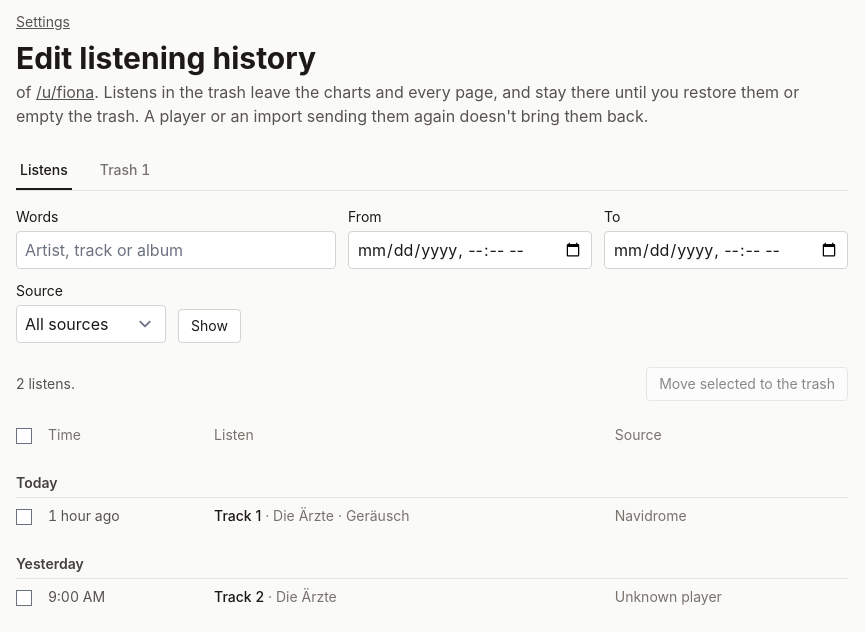
Test: listening history › selects all shown and back
The width and height of the screenshot is (865, 632).
Click the checkbox named "Select all shown" at coordinates (24, 436), box left=16, top=428, right=32, bottom=444
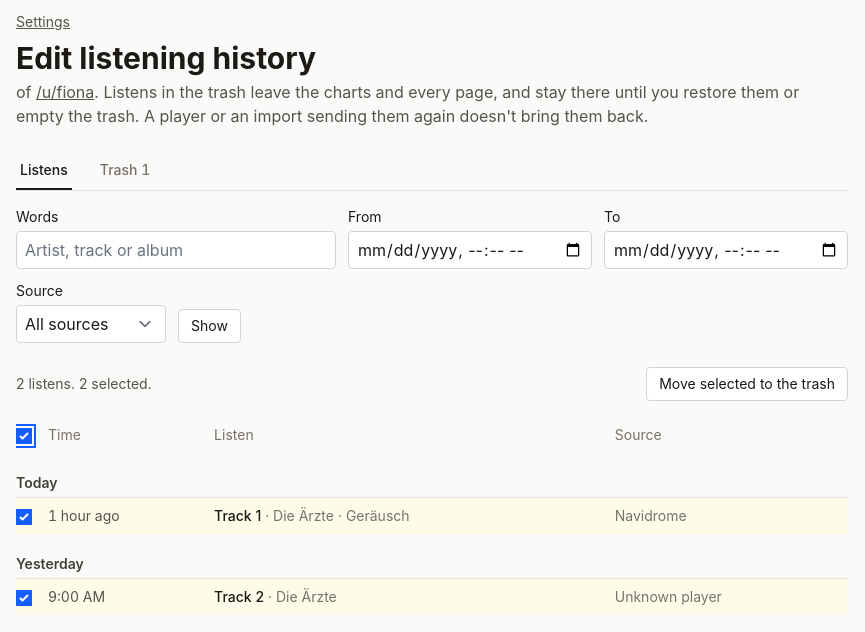
expect the checkbox named "Select all shown" is checked: met, box left=16, top=428, right=32, bottom=444
expect the text "2 listens. 2 selected." is shown: met, box left=16, top=374, right=152, bottom=394
Click the checkbox named "Track 2" at coordinates (24, 598), box left=16, top=590, right=32, bottom=606
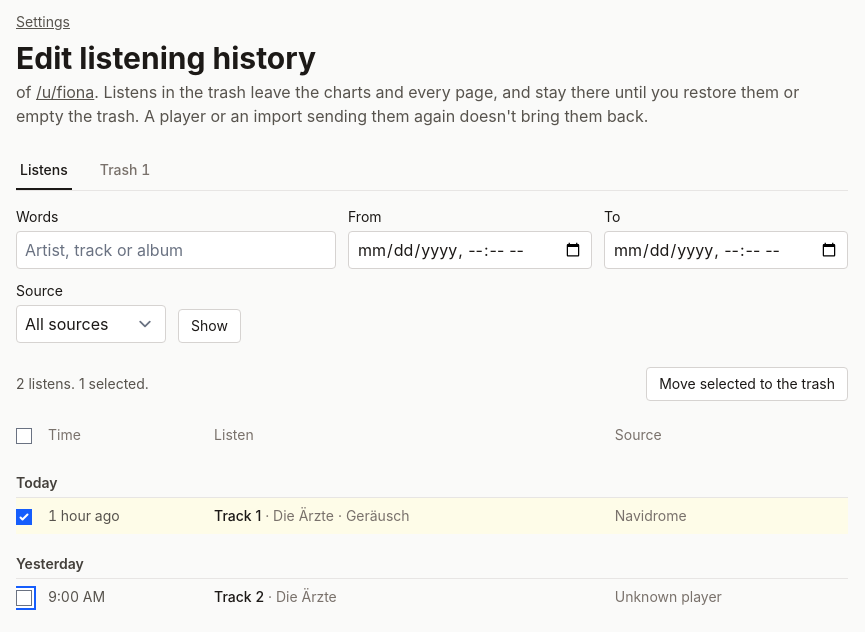
expect the checkbox named "Select all shown" is not checked: met
Click the checkbox named "Select all shown" at coordinates (24, 436), box left=16, top=428, right=32, bottom=444
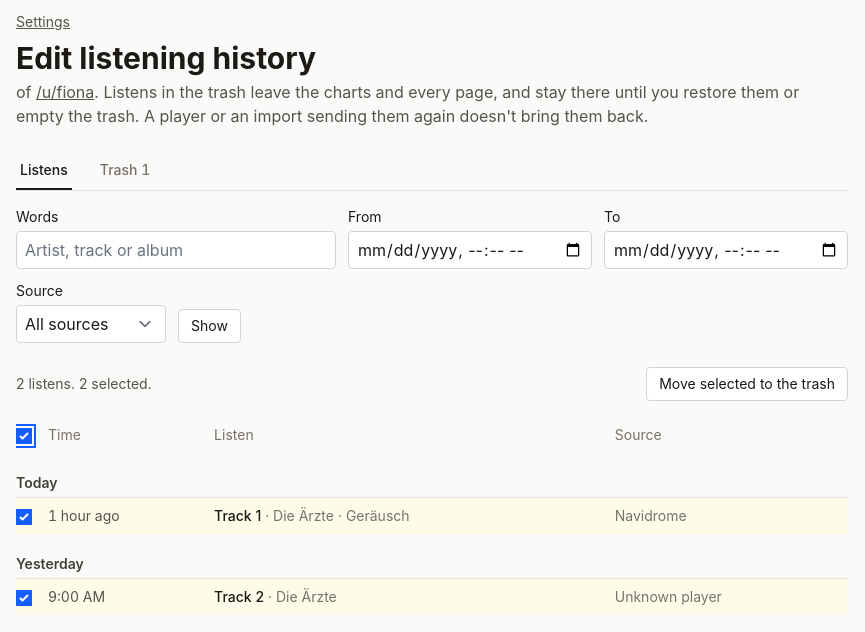
Click the checkbox named "Select all shown" at coordinates (24, 436), box left=16, top=428, right=32, bottom=444
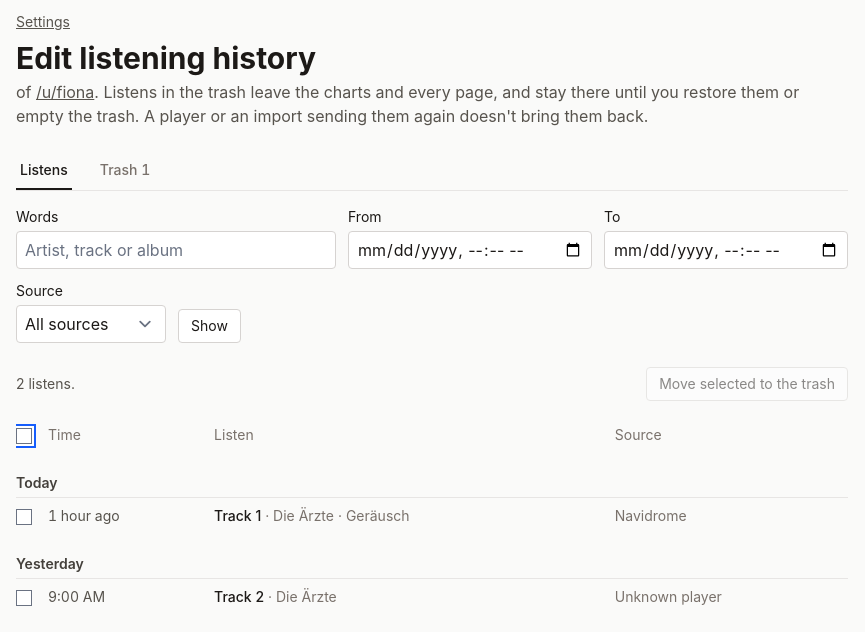
expect the text "selected." is gone: met
